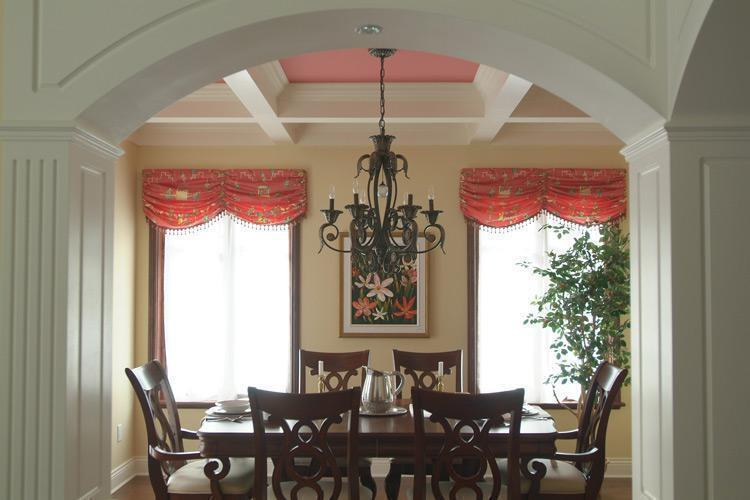Ventana: (166, 176, 293, 404), (481, 185, 613, 397)
